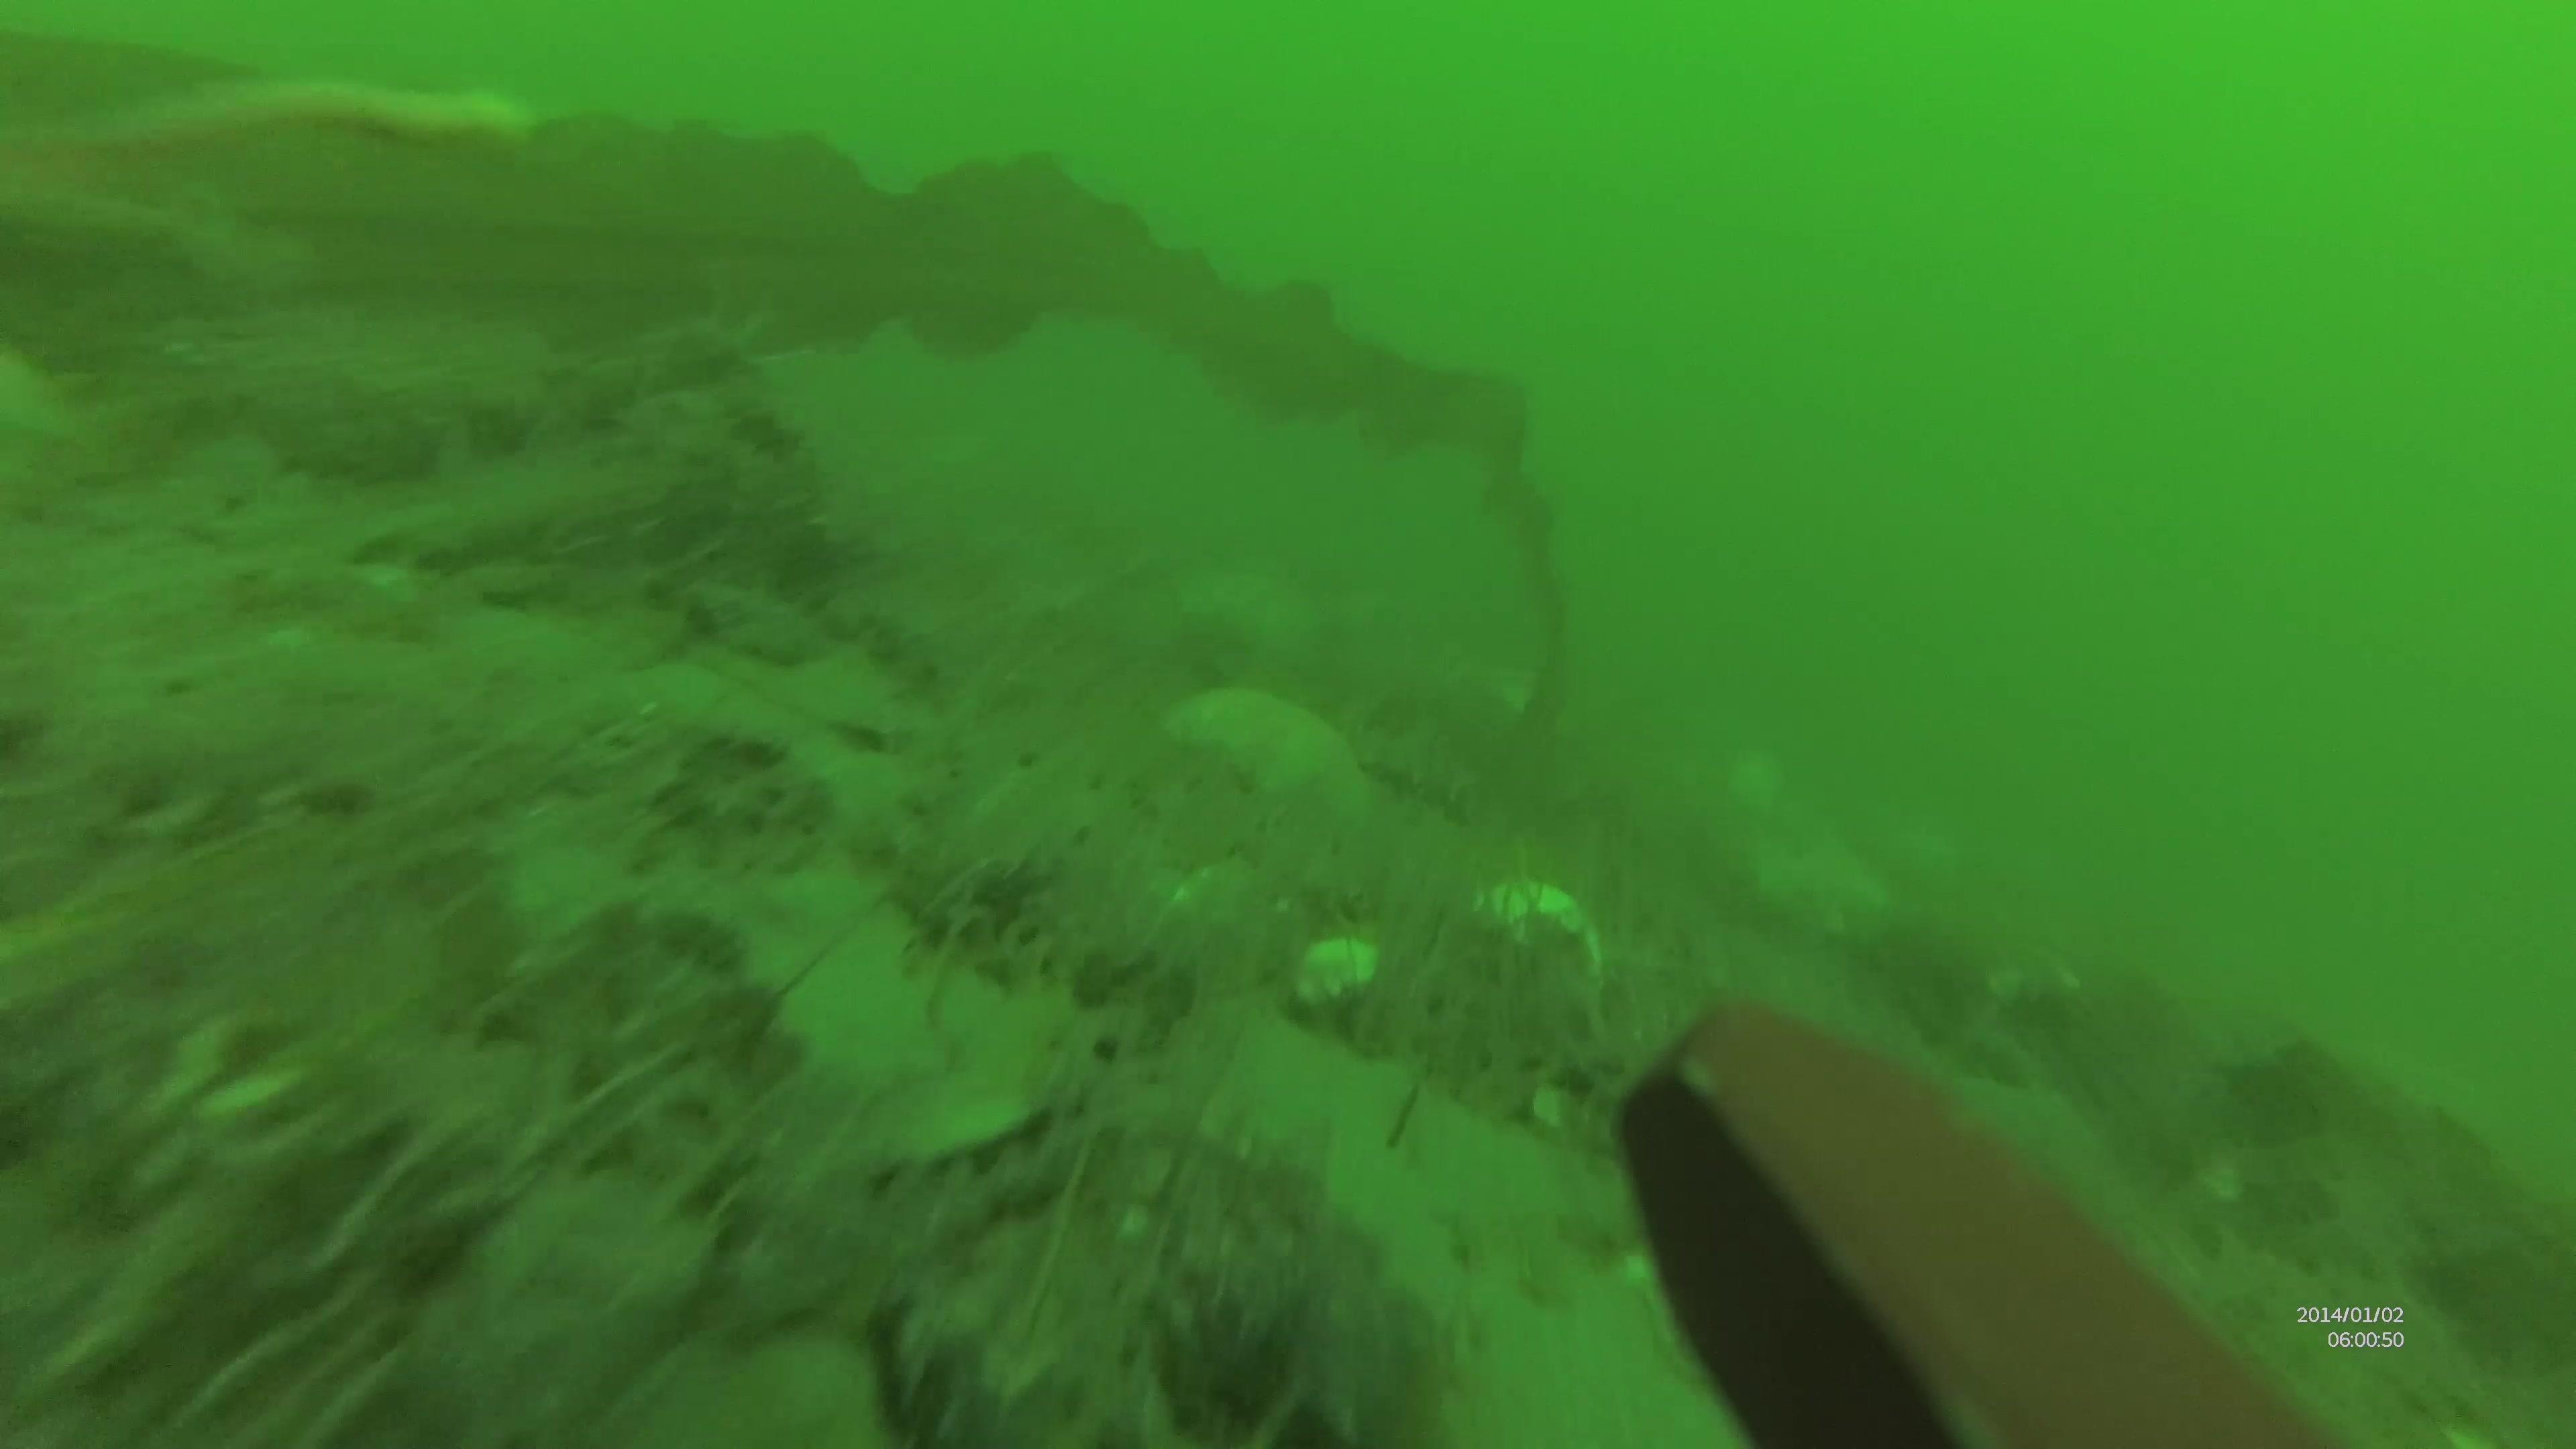scallop: (1461, 886, 1598, 982), (1288, 922, 1376, 998), (1727, 745, 1782, 807)
starfish: (1169, 679, 1368, 810), (1757, 830, 1886, 934)
